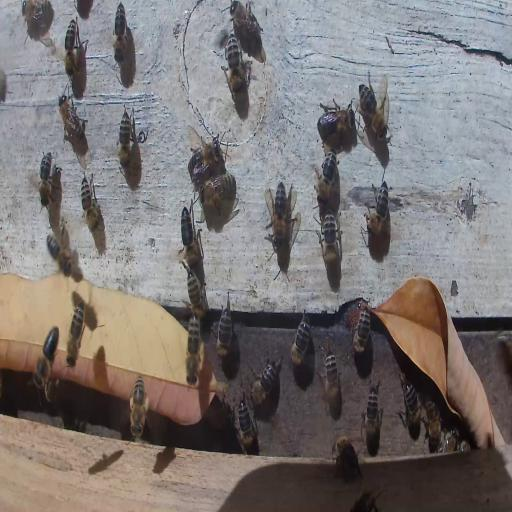bee: (357, 73, 390, 139), (249, 349, 283, 406), (33, 324, 58, 390), (127, 368, 149, 439), (366, 176, 391, 236), (185, 316, 205, 390), (188, 136, 223, 178), (265, 181, 287, 244), (317, 100, 353, 138), (318, 208, 340, 270), (200, 175, 235, 213), (362, 380, 382, 445), (80, 173, 102, 232), (57, 92, 85, 138), (333, 437, 363, 479), (398, 378, 421, 432), (322, 346, 342, 408), (236, 394, 256, 454), (316, 150, 338, 204), (182, 204, 200, 270), (67, 300, 84, 368), (213, 299, 233, 356), (224, 36, 243, 96), (290, 314, 311, 368), (350, 304, 372, 355), (186, 270, 207, 322), (46, 234, 70, 279), (230, 2, 259, 38), (118, 106, 132, 172), (424, 400, 441, 450), (38, 149, 52, 208), (113, 2, 126, 61), (440, 428, 467, 454), (65, 18, 77, 76), (93, 344, 107, 390), (350, 488, 376, 512), (455, 439, 470, 455)
